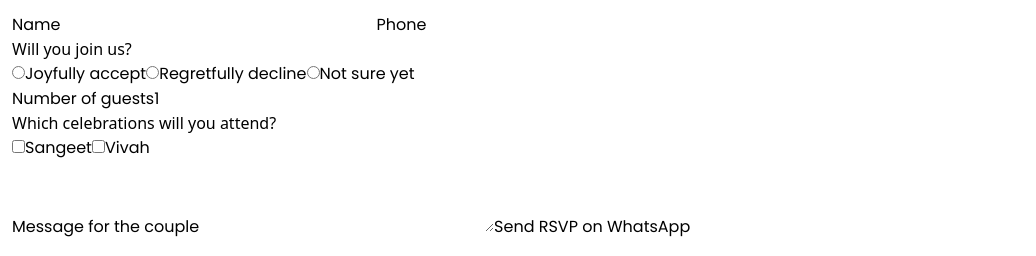
Test: <RsvpForm> › live pages that save the reply › shows the closed notice and never opens WhatsApp when replies have closed
This screenshot has width=1036, height=256.
Type "Sharma Parivar" into the field labelled "Name" at (218,25), box top-left (60, 13), bottom-right (376, 37)
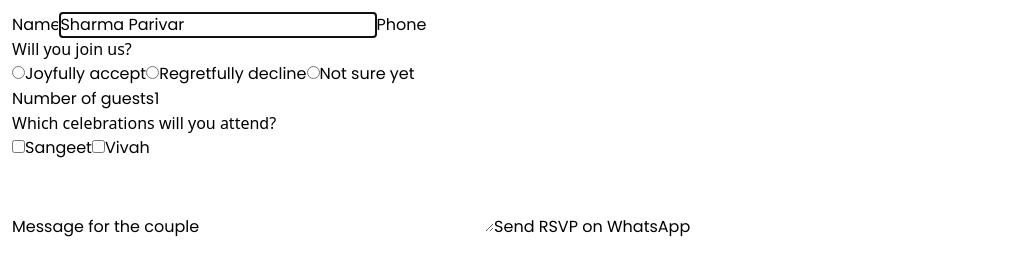
Type "9876543210" into the field labelled "Phone" at (584,25), box top-left (426, 13), bottom-right (742, 37)
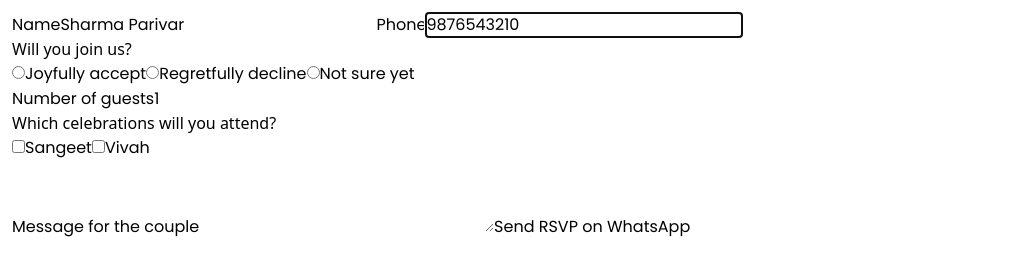
Click the radio button labelled "Joyfully accept" at (18,72), box top-left (12, 66), bottom-right (25, 79)
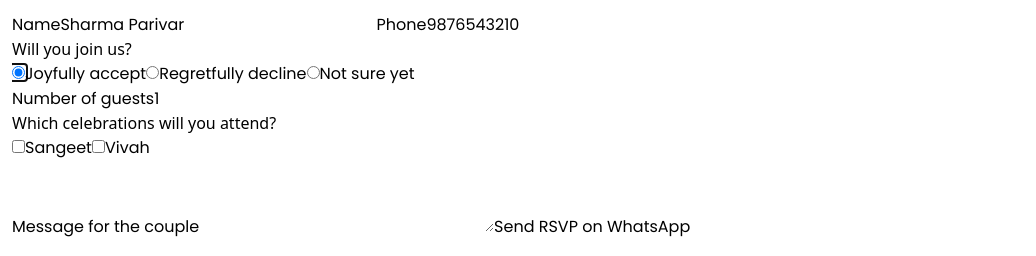
Replace the text in the number field labelled "Number of guests" with "3" at (194,99), box top-left (154, 87), bottom-right (233, 111)
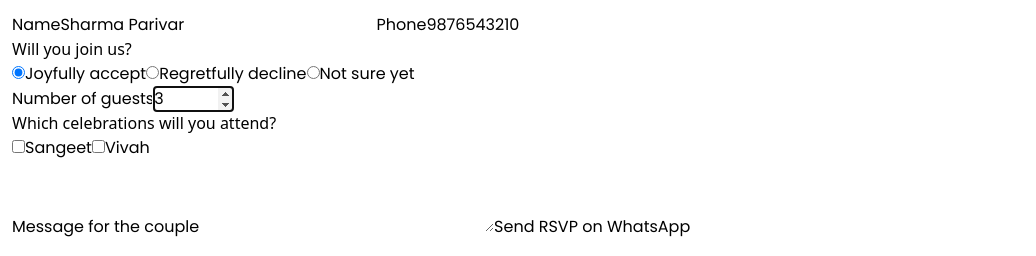
Click the checkbox labelled "Sangeet" at (18,146), box top-left (12, 140), bottom-right (25, 153)
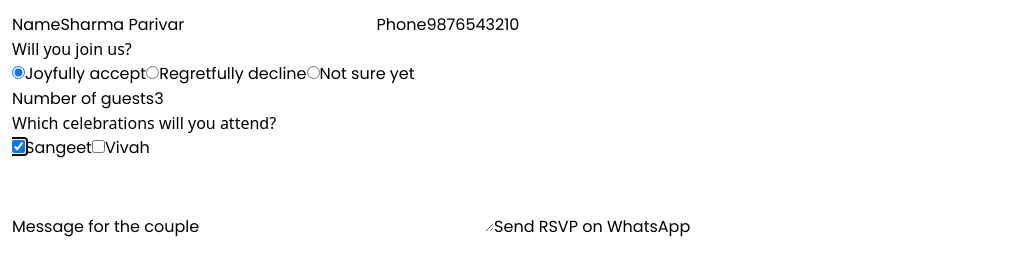
Click the button "Send RSVP on WhatsApp" at (592,227), box top-left (494, 215), bottom-right (690, 239)
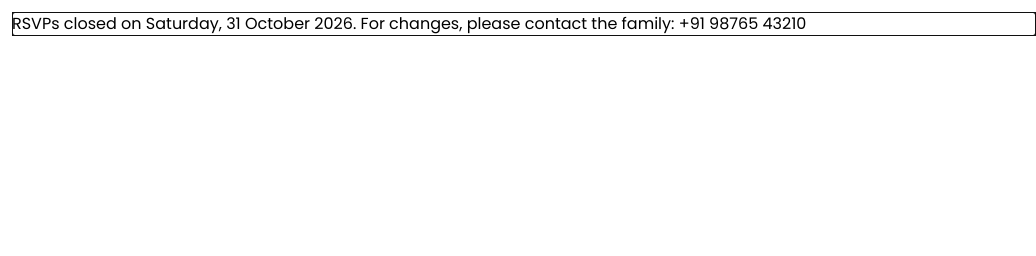
Now the message shows "RSVPs closed on Saturday, 31 October 2026", box top-left (12, 12), bottom-right (806, 35)
Now the button "Send RSVP on WhatsApp" is gone
